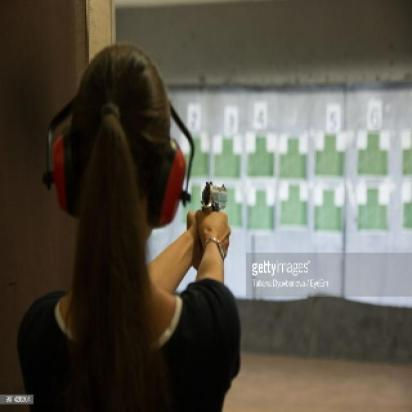Gun: (200, 178, 229, 216)
